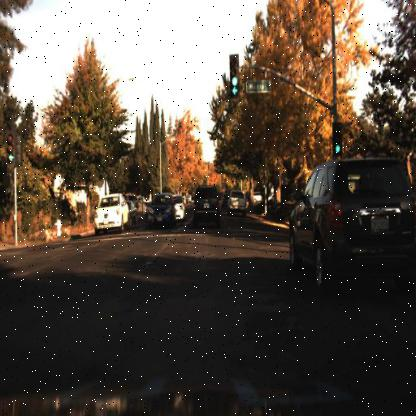car: (286, 153, 413, 290), (90, 192, 130, 236), (188, 182, 224, 222), (144, 188, 178, 230), (189, 183, 221, 227), (228, 188, 248, 216), (247, 186, 266, 209), (173, 191, 185, 221), (172, 194, 184, 220)
trafficLight: (228, 55, 240, 101)
trafficLight-GreenLeft: (4, 132, 16, 168)
